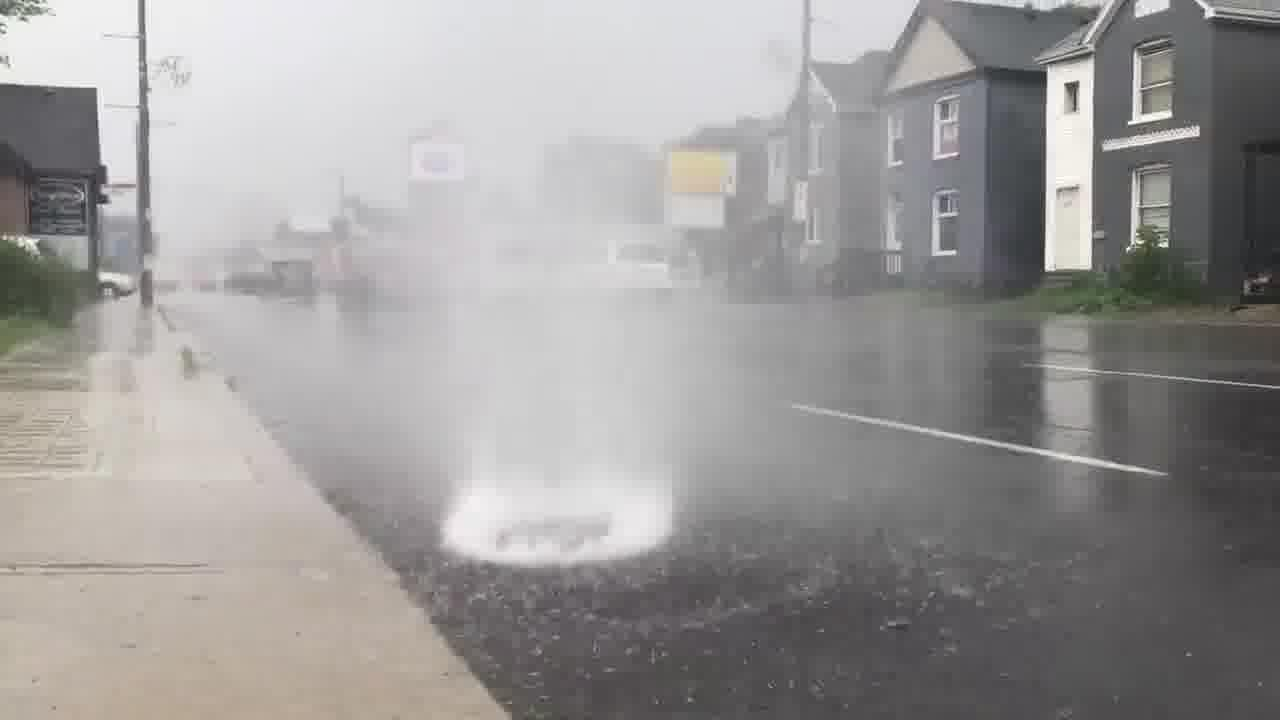drainage_overflow: (335, 329, 726, 605)
